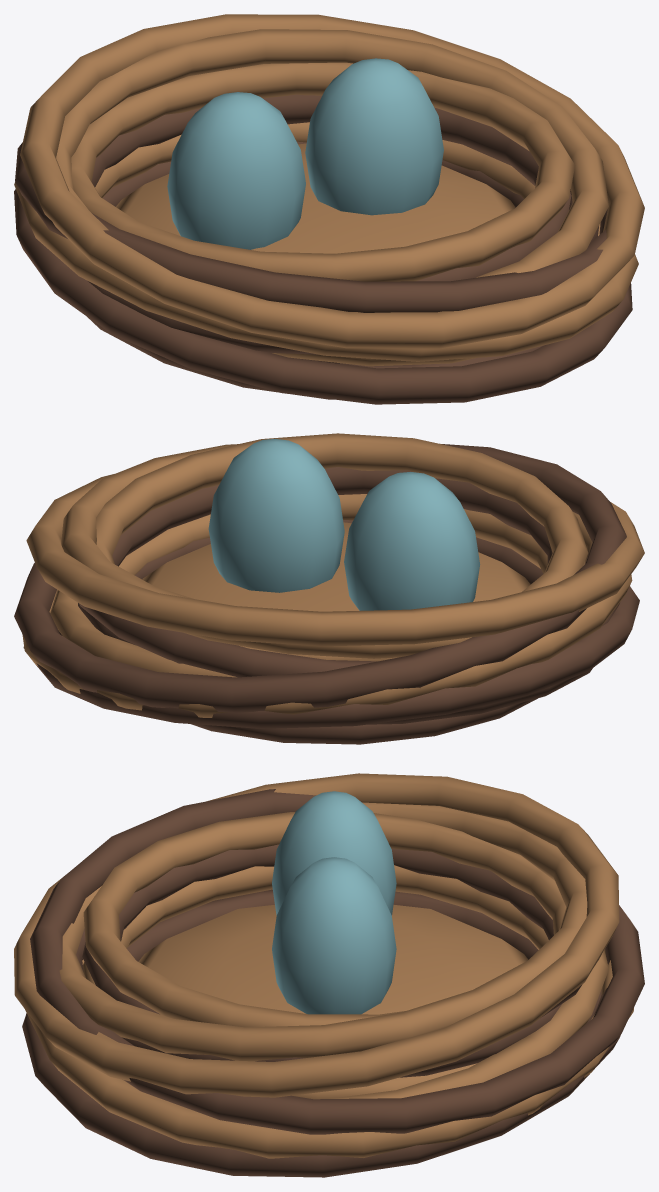
The model's file is almanac-gardens-birds-nest-80533488__22071.glb.
3 views of the same model, one above another, from view 1: azimuth 30°, elevation 25°; view 2: azimuth 150°, elevation 25°; view 3: azimuth 270°, elevation 25° (orthographic). The views are drawn at different scales.
Visible parts, largest first — view 1: birds-nest-oak, birds-nest-bark, birds-nest-blue; view 2: birds-nest-oak, birds-nest-bark, birds-nest-blue; view 3: birds-nest-oak, birds-nest-bark, birds-nest-blue.
Boxes of the visible parts, x1,y1,x2,y2 form: birds-nest-oak: (14,14,644,366); birds-nest-bark: (14,94,632,404); birds-nest-blue: (167,58,443,249); birds-nest-oak: (22,433,644,717); birds-nest-bark: (14,444,639,744); birds-nest-blue: (208,438,480,610); birds-nest-oak: (14,773,633,1158); birds-nest-bark: (22,789,644,1177); birds-nest-blue: (272,791,396,1014).
Bounding box in the file's own units: 0.4172 × 0.1665 × 0.425.
